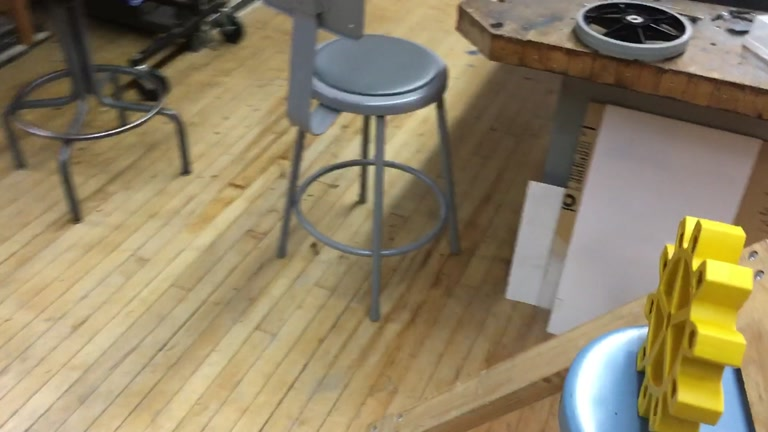gear: (636, 216, 755, 432)
